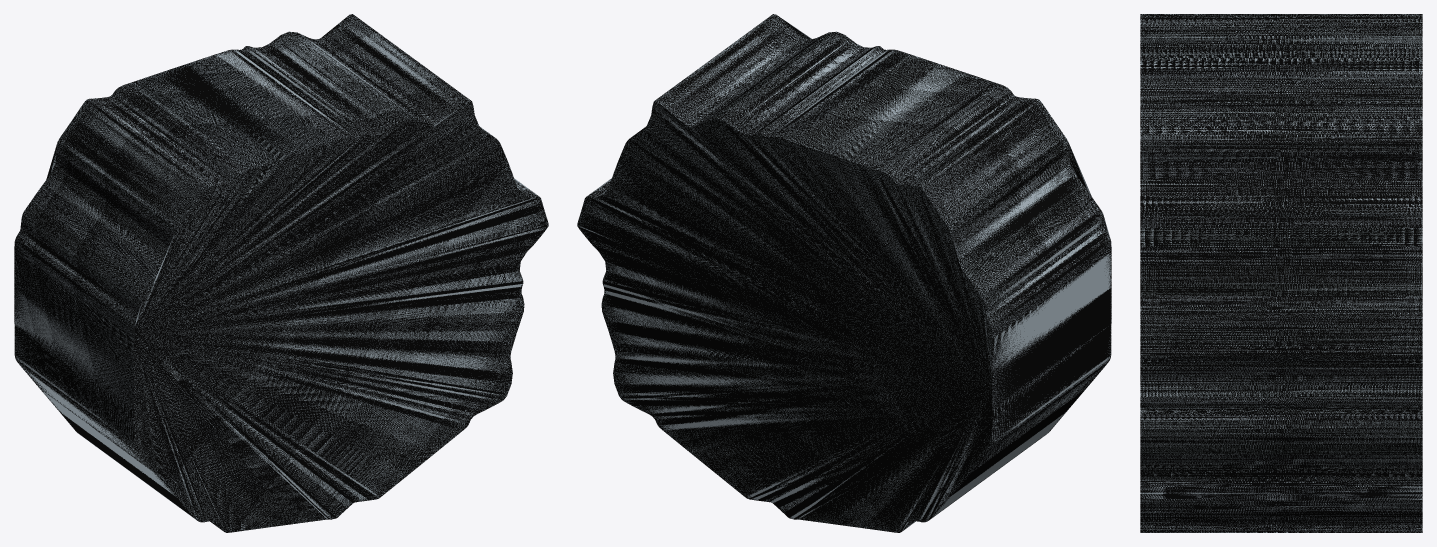
File: rock.fbx
3 renders of one model, left to right at view 1: azimuth 30°, elevation 25°; view 2: azimuth 150°, elevation 25°; view 3: azimuth 270°, elevation 25°, orthographic. The views are drawn at different scales.
Parts seen in each view (by area): view 1: Group1; view 2: Group1; view 3: Group1.
Boxes of the visible parts, x1,y1,x2,y2 form: Group1: [14, 14, 548, 532]; Group1: [577, 14, 1111, 532]; Group1: [1140, 14, 1422, 532].
Bounding box in the file's own units: 4022 × 3555 × 2000.
